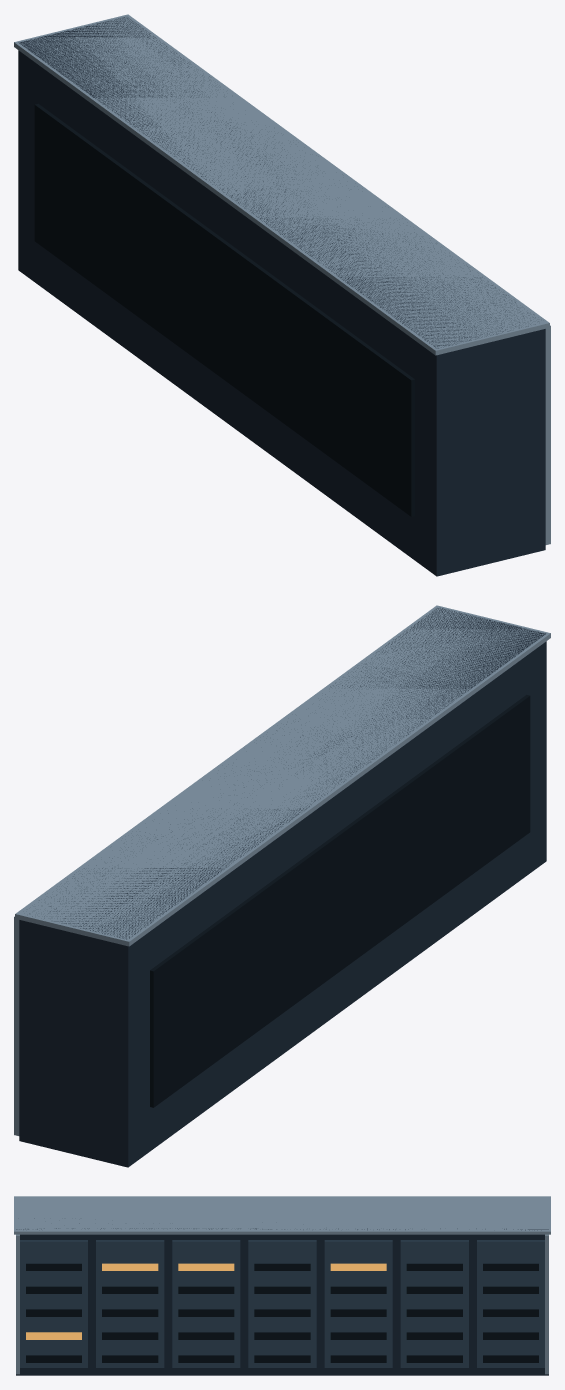
Rendered from cover-rack-cp08.glb.
The picture shows the model from 3 angles, top to bottom: view 1: azimuth 30°, elevation 25°; view 2: azimuth 150°, elevation 25°; view 3: azimuth 270°, elevation 25°; orthographic projection. The views are drawn at different scales.
Visible parts, largest first — view 1: cover-rack-merged (×2), Body; view 2: cover-rack-merged (×2), Body; view 3: cover-rack-merged (×4), Body.
Part boxes in pixels (x1,y1,x2,y2): cover-rack-merged (×2): [14, 14, 550, 544]; Body: [18, 17, 545, 576]; cover-rack-merged (×2): [14, 605, 550, 1135]; Body: [19, 607, 546, 1167]; cover-rack-merged (×4): [14, 1196, 550, 1374]; Body: [16, 1218, 548, 1375].
Size of the model in its own units: 1.31 by 2.4 by 8.06.
